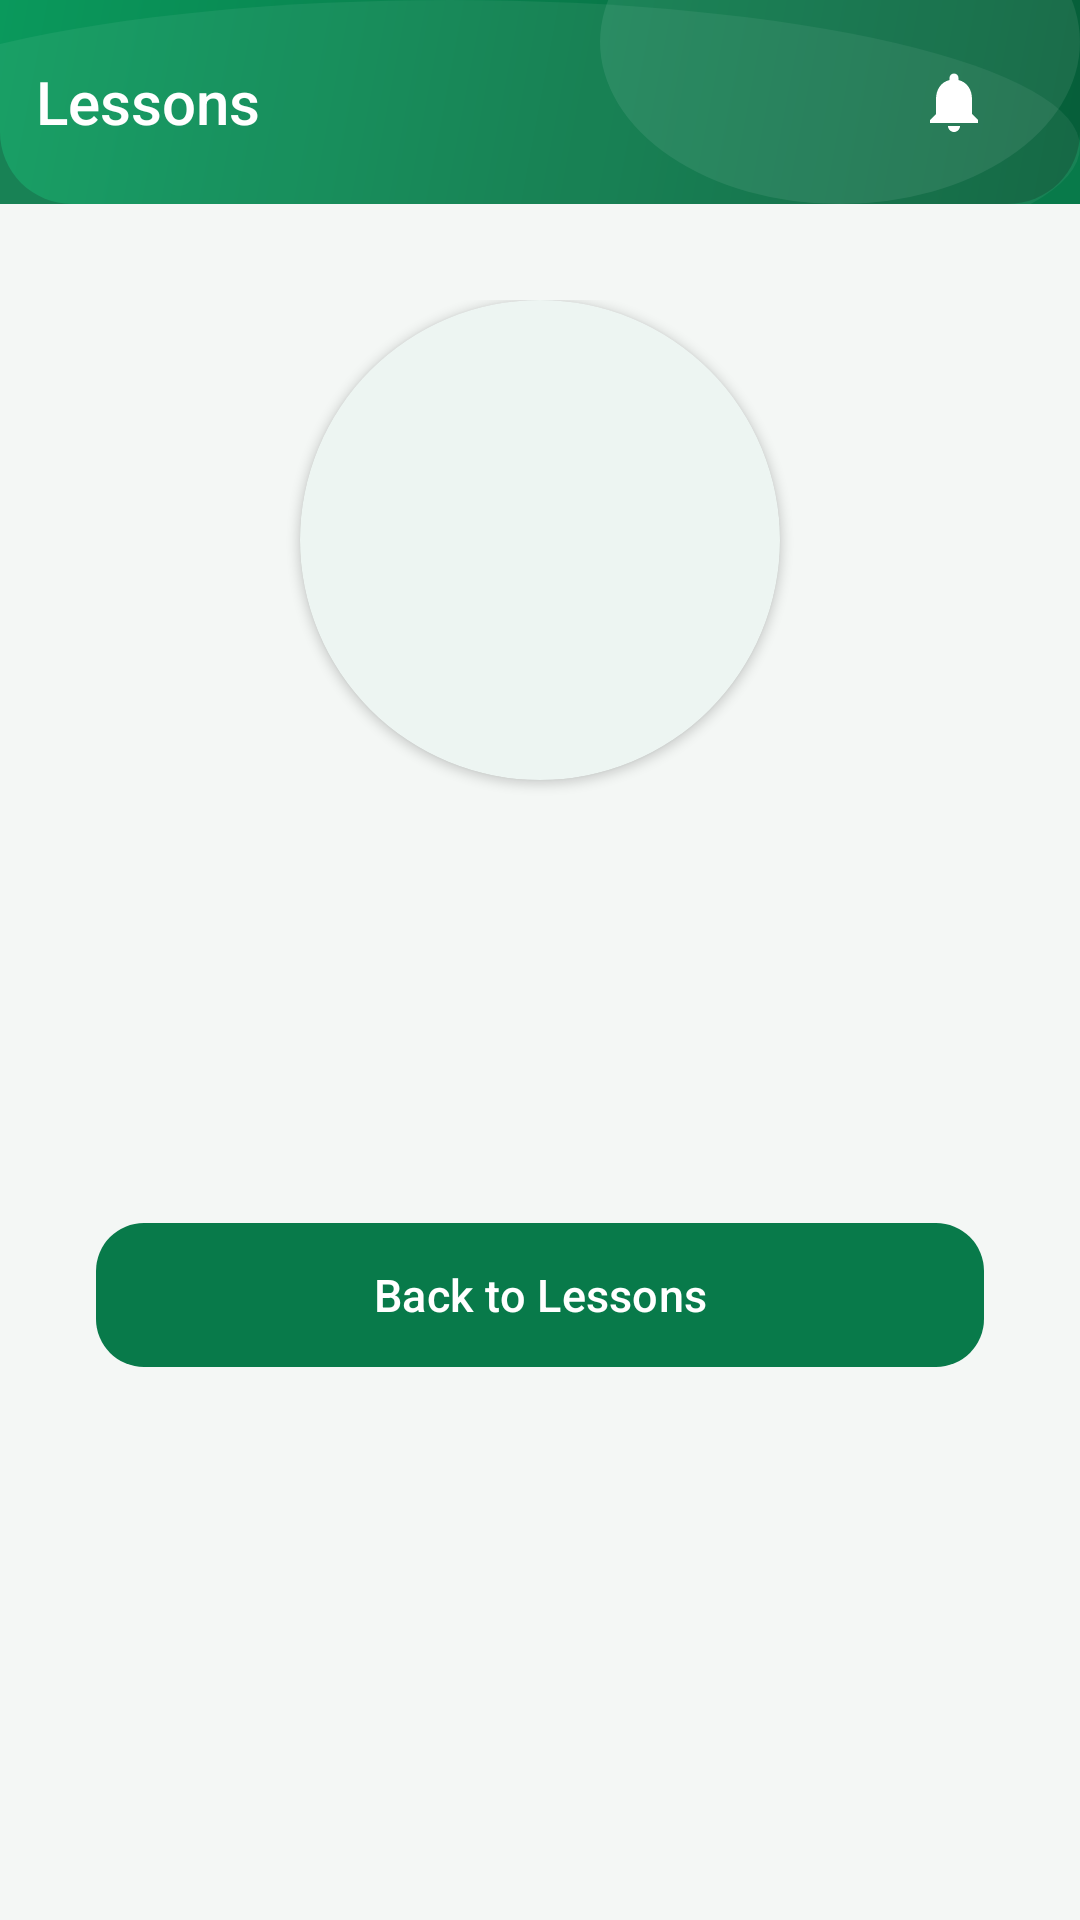

Icons on this 1080*1920 Android screen, each with its box as (x1, y1, x2, y2):
Notifications: (930, 73, 978, 132)
